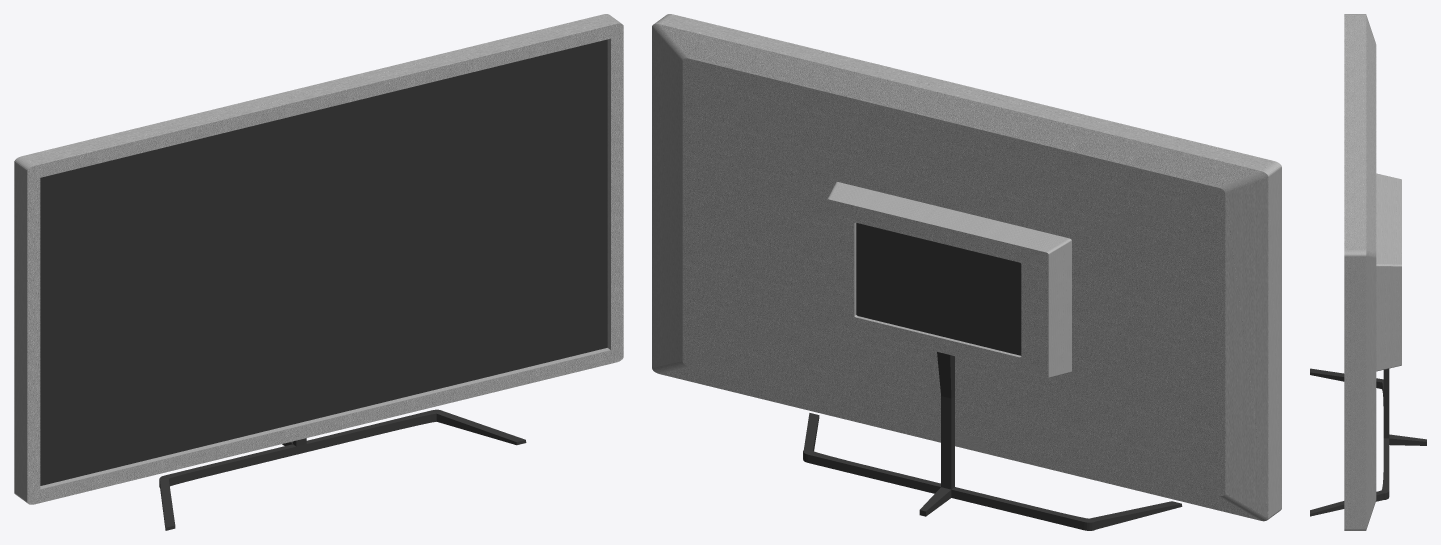
File: screen-00001.glb
The picture shows the model from 3 angles, left to right: view 1: azimuth 30°, elevation 25°; view 2: azimuth 150°, elevation 25°; view 3: azimuth 270°, elevation 25°; orthographic projection. The views are drawn at different scales.
Visible parts, largest first — view 1: Cube.001; view 2: Cube.001; view 3: Cube.001.
Part boxes in pixels (box(x1,y1,x2,y2)): Cube.001: box(14, 14, 623, 530); Cube.001: box(652, 14, 1281, 530); Cube.001: box(1310, 14, 1426, 530).
Size of the model in its own units: 1.24 by 0.753 by 0.2555.
2 materials, 1 textured.
